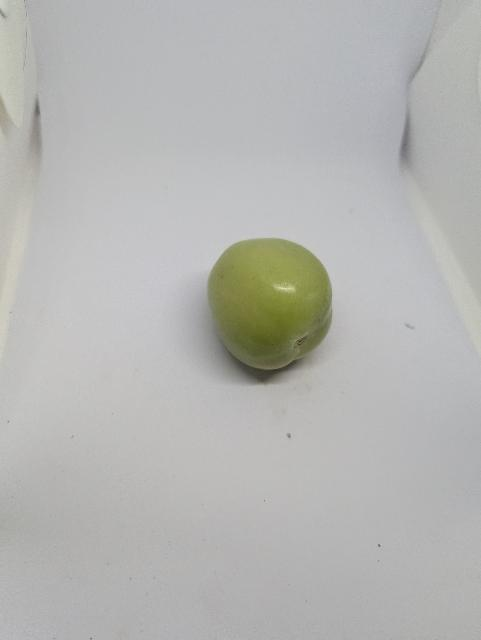green: (195, 232, 347, 387)
